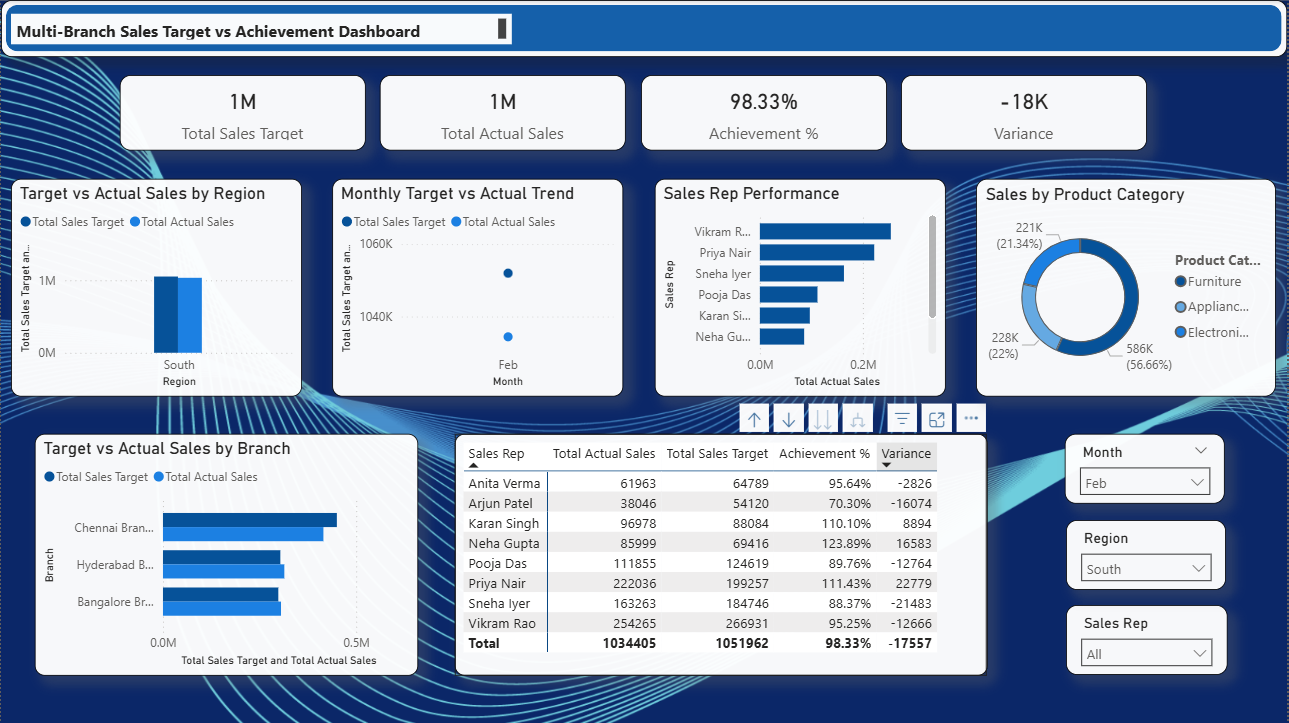

The dashboard page shown, as its layout file describes it:
{"tool":"powerbi","page":{"name":"Page 1","canvas":[1280,720],"ordinal":0},"visuals":[{"type":"slicer","fields":{"Values":["SalesData.Month"]},"box":[1058.9,431.9,159.5,69.9],"z":0},{"type":"slicer","fields":{"Values":["SalesData.Sales Rep"]},"box":[1060.1,602.5,160.7,69.9],"z":1000},{"type":"slicer","fields":{"Values":["SalesData.Region"]},"box":[1060.1,517.2,159.5,69.9],"z":2000},{"type":"clusteredColumnChart","title":" Target vs Actual Sales by Region","fields":{"Category":["SalesData.Region"],"Y":["SalesData.Total Sales Target","SalesData.Total Actual Sales"]},"box":[9.8,177.9,289.6,217.2],"z":3000},{"type":"lineChart","title":"Monthly Target vs Actual Trend ","fields":{"Category":["SalesData.Month"],"Y":["SalesData.Total Sales Target","SalesData.Total Actual Sales"]},"box":[330.1,177.9,289.6,217.2],"z":4000},{"type":"clusteredBarChart","title":"Sales Rep Performance","fields":{"Y":["SalesData.Total Actual Sales"],"Category":["SalesData.Sales Rep"]},"box":[650.3,177.9,289.6,217.2],"z":5000},{"type":"clusteredBarChart","title":"Target vs Actual Sales by Branch","fields":{"Category":["SalesData.Branch"],"Y":["SalesData.Total Sales Target","SalesData.Total Actual Sales"]},"box":[33.1,431.9,381.6,240.5],"z":6000},{"type":"pivotTable","fields":{"Rows":["SalesData.Branch","SalesData.Region","SalesData.Sales Rep"],"Values":["SalesData.Total Actual Sales","SalesData.Total Sales Target","SalesData.Achievement %","SalesData.Variance"]},"box":[451.5,431.9,530.1,240.5],"z":7000},{"type":"card","fields":{"Values":["SalesData.Total Sales Target"]},"box":[118,75.1,245,74.8],"z":8000},{"type":"card","fields":{"Values":["SalesData.Total Actual Sales"]},"box":[377.3,75.1,245,74.8],"z":9000},{"type":"card","fields":{"Values":["SalesData.Achievement %"]},"box":[636.6,75.1,245,74.8],"z":10000},{"type":"card","fields":{"Values":["SalesData.Variance"]},"box":[896,75.1,245,74.8],"z":11000},{"type":"shape","box":[0,0,1279.8,56.4],"z":12000},{"type":"textbox","box":[9.8,13.5,498.2,30.7],"z":13000},{"type":"donutChart","title":"Sales by Product Category","fields":{"Category":["SalesData.Product Category"],"Y":["SalesData.Total Actual Sales"]},"box":[970.6,177.9,298.2,217.2],"z":14000}]}

Visuals, with their boxes in screenshot pixels (x1, y1, x2, y2), scaled from the page's 1280x720 canvas onto the 1289x723 screenshot:
slicer - SalesData.Month: (1066,434,1227,504)
slicer - SalesData.Sales Rep: (1068,605,1229,675)
slicer - SalesData.Region: (1068,519,1228,590)
" Target vs Actual Sales by Region" clusteredColumnChart: (10,179,302,397)
"Monthly Target vs Actual Trend " lineChart: (332,179,624,397)
"Sales Rep Performance" clusteredBarChart: (655,179,947,397)
"Target vs Actual Sales by Branch" clusteredBarChart: (33,434,418,675)
pivotTable - SalesData.Branch x SalesData.Region: (455,434,989,675)
card - SalesData.Total Sales Target: (119,75,366,151)
card - SalesData.Total Actual Sales: (380,75,627,151)
card - SalesData.Achievement %: (641,75,888,151)
card - SalesData.Variance: (902,75,1149,151)
shape: (0,0,1288,57)
textbox: (10,14,512,44)
"Sales by Product Category" donutChart: (977,179,1278,397)
